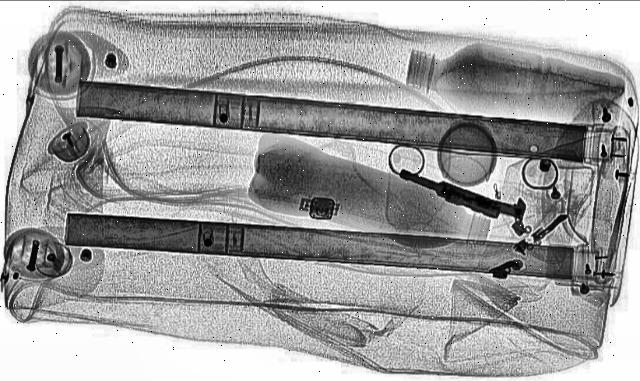Gun: (394, 160, 538, 228)
